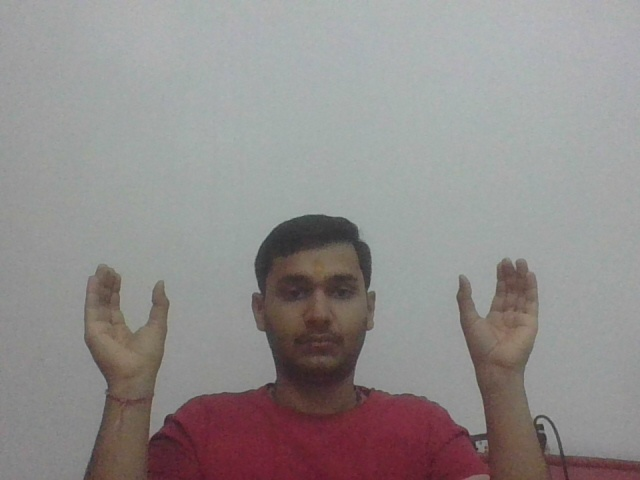U: (80, 261, 173, 391), (453, 253, 542, 375)
